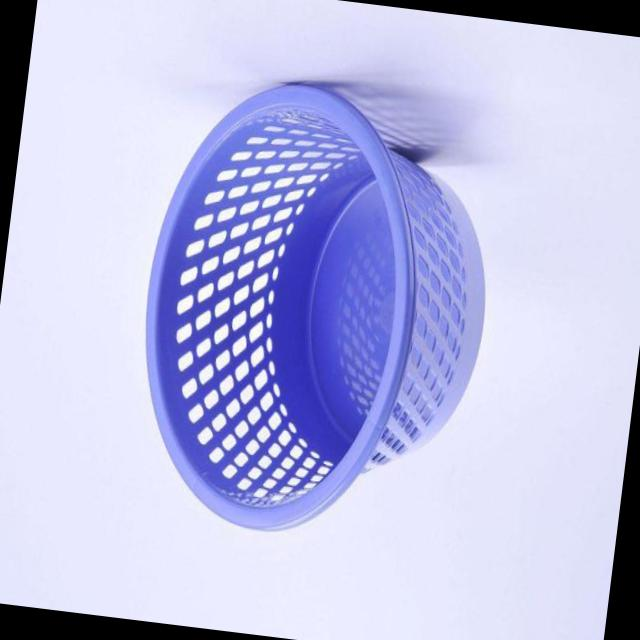dustbin: (116, 56, 510, 566)
